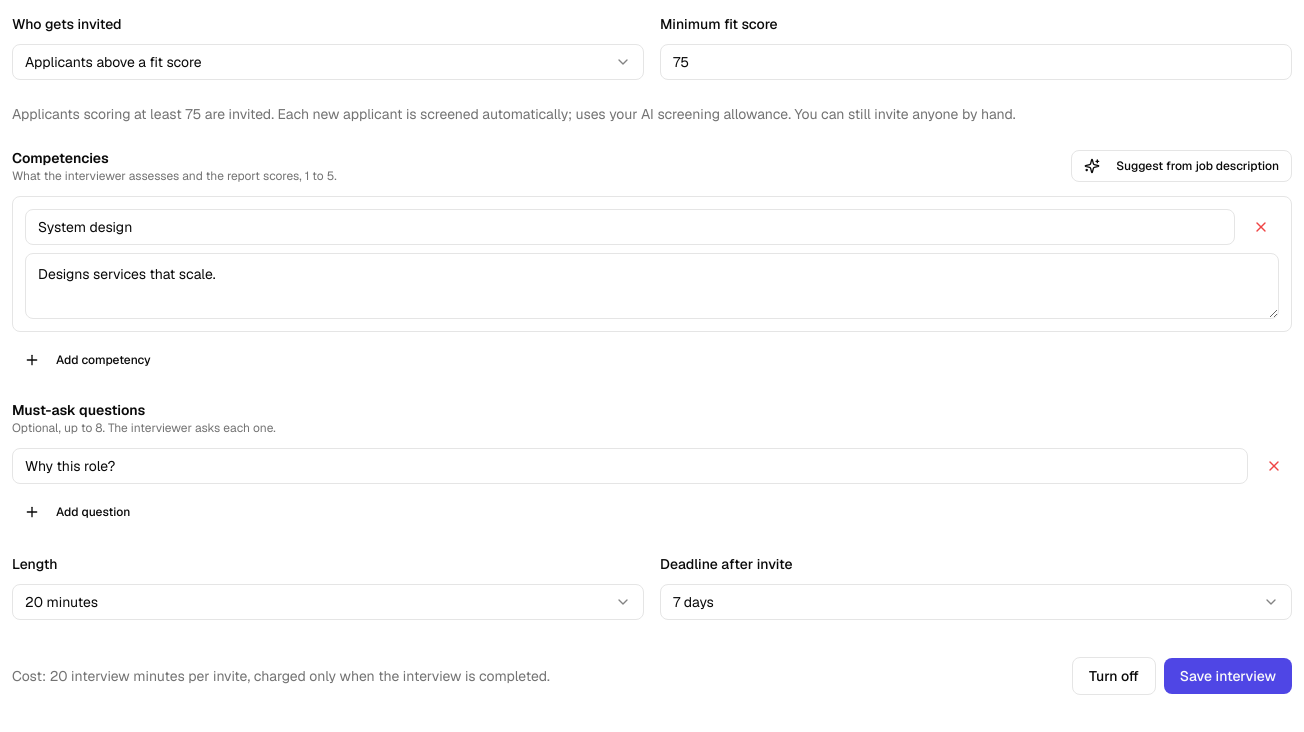
Test case: InterviewConfigSection (SIT-060) › turns off right away, without the unsaved draft
Replace the text in the number field labelled "Minimum fit score" with "80". click: [976, 62]
box: [660, 44, 1292, 80]
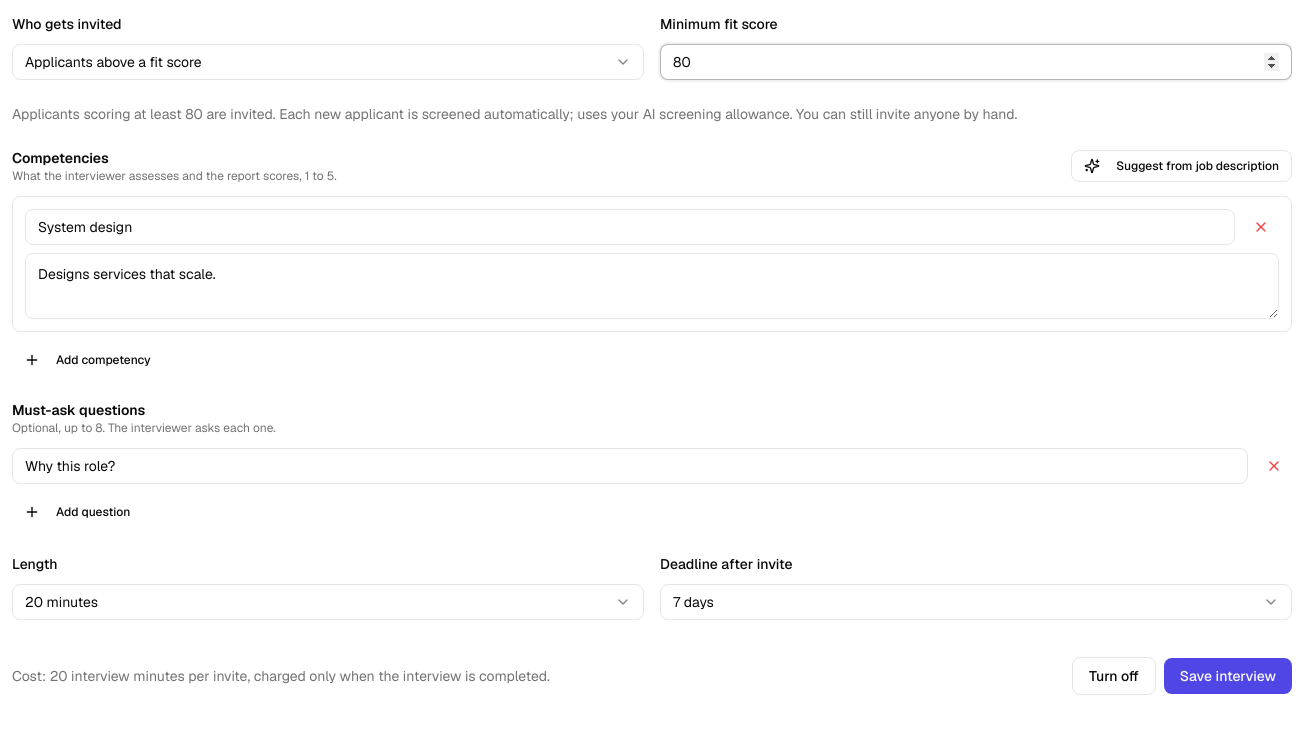
Click the button "Turn off". click: [1114, 676]
box: [1072, 657, 1156, 695]
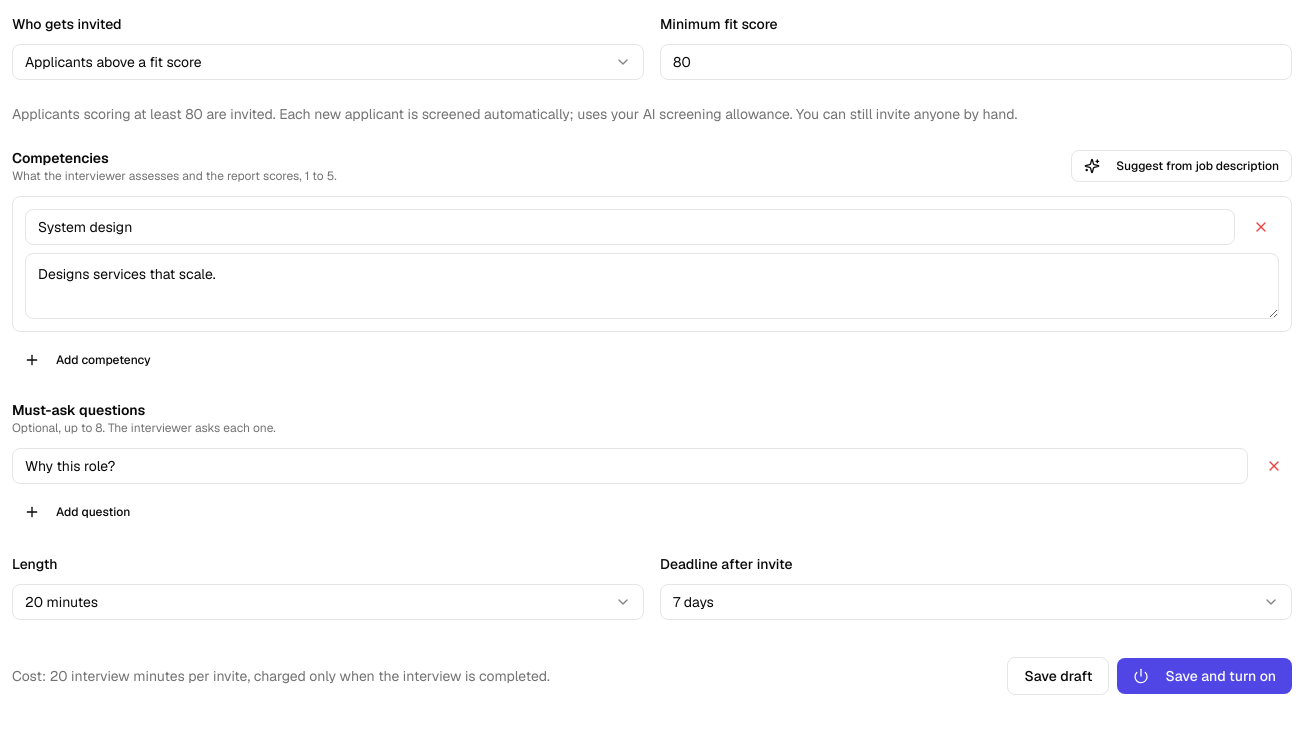
Now the button "Save and turn on" is shown, box [1118, 658, 1292, 694]
